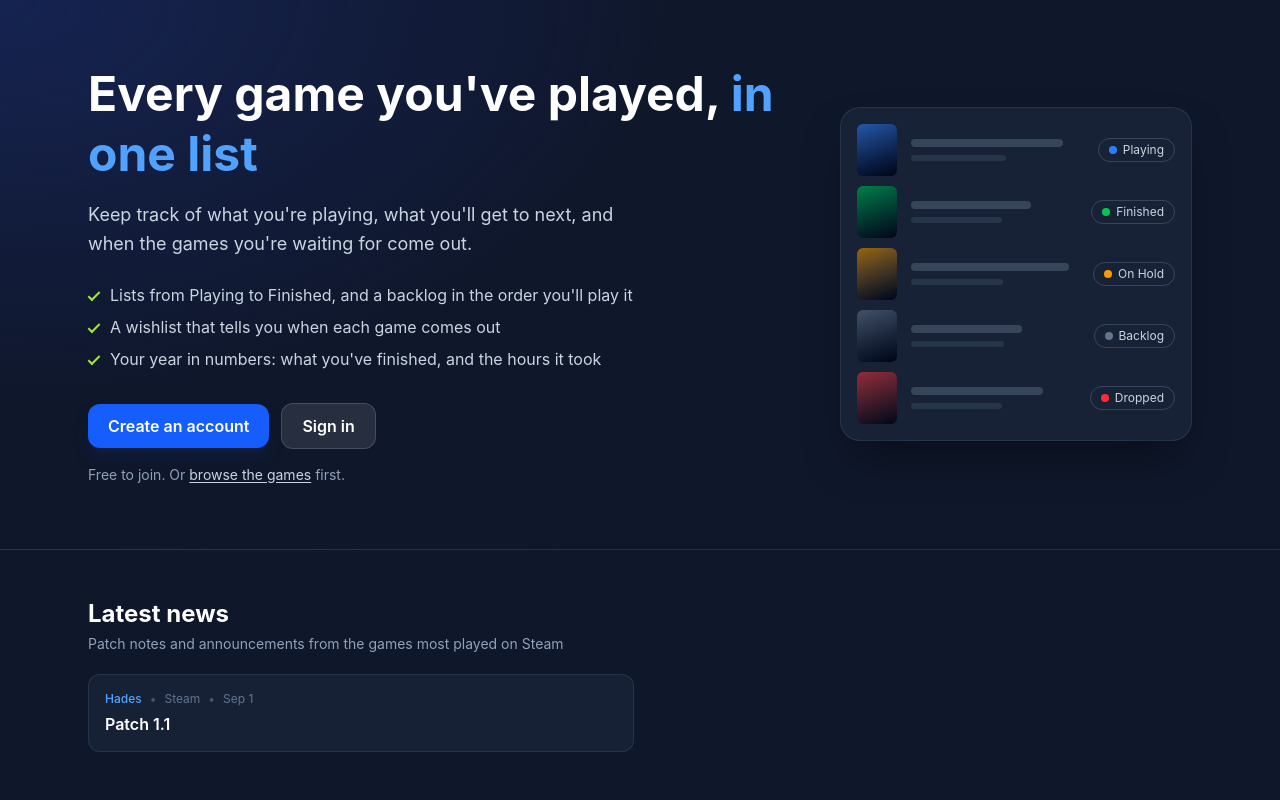
Test: HomePage for a signed-out visitor › welcomes a visitor with what the site is for and the two ways in
This screenshot has width=1280, height=800.
Check: the heading "Every game you've played, in one list" is shown, box [88,64,792,184]
Click the button "Create an account" at (179, 426), box [88,404,269,448]
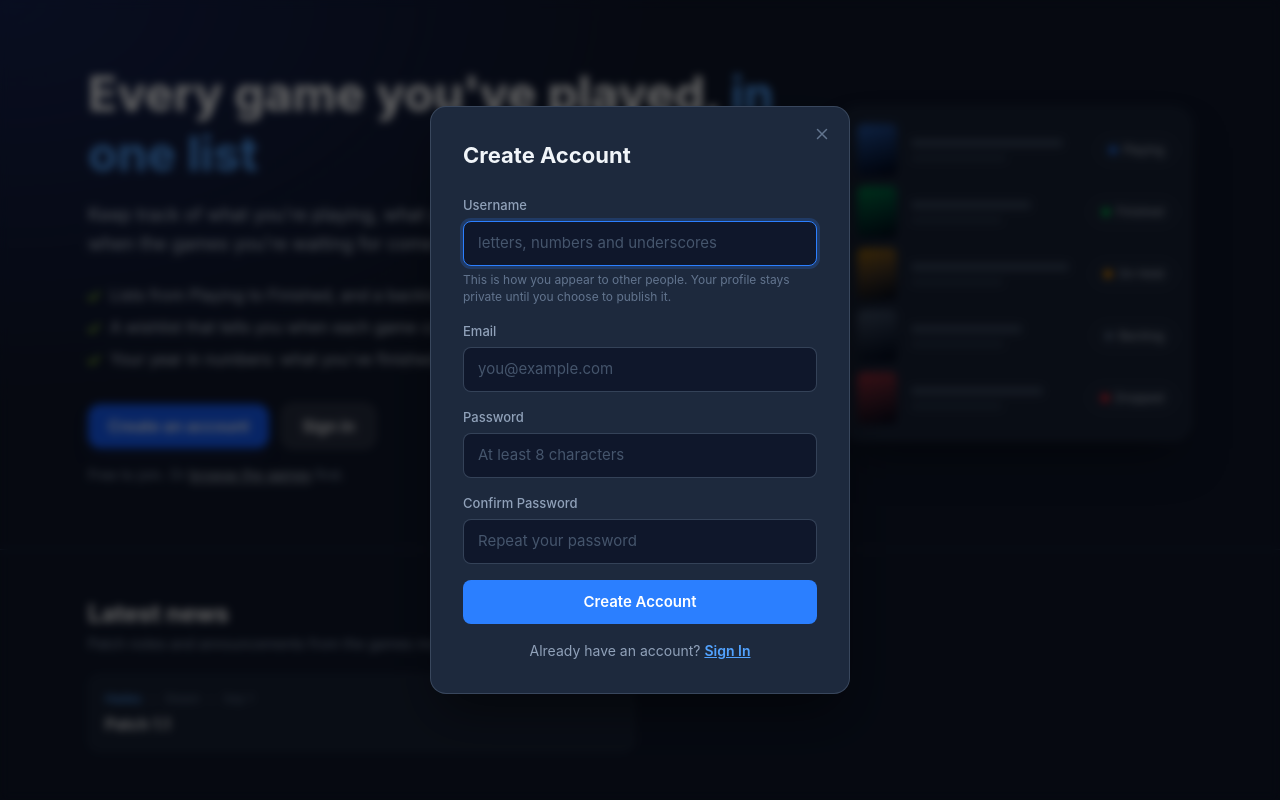
Check: the dialog "Create Account" is shown
